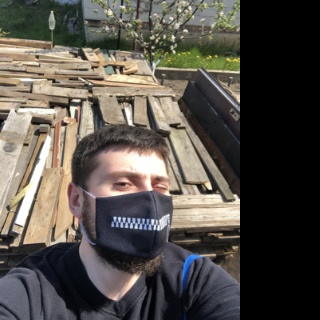with_mask: (92, 160, 173, 270)
